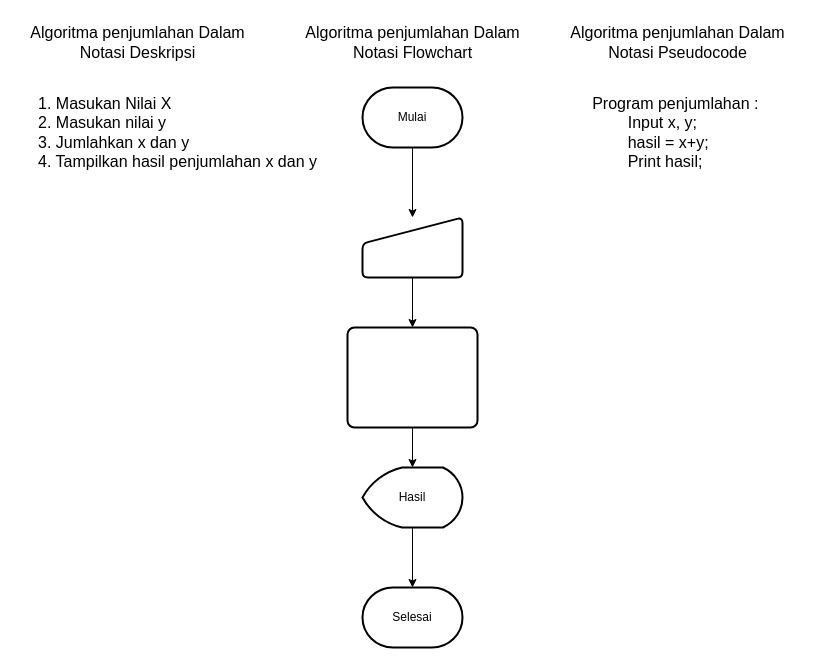
This 814x665 diagram has some shape labels left out. The centre of each missing label's shape, as x and y in pixels:
Hasil = x+y: point (412, 377)
x, y: point (412, 247)
